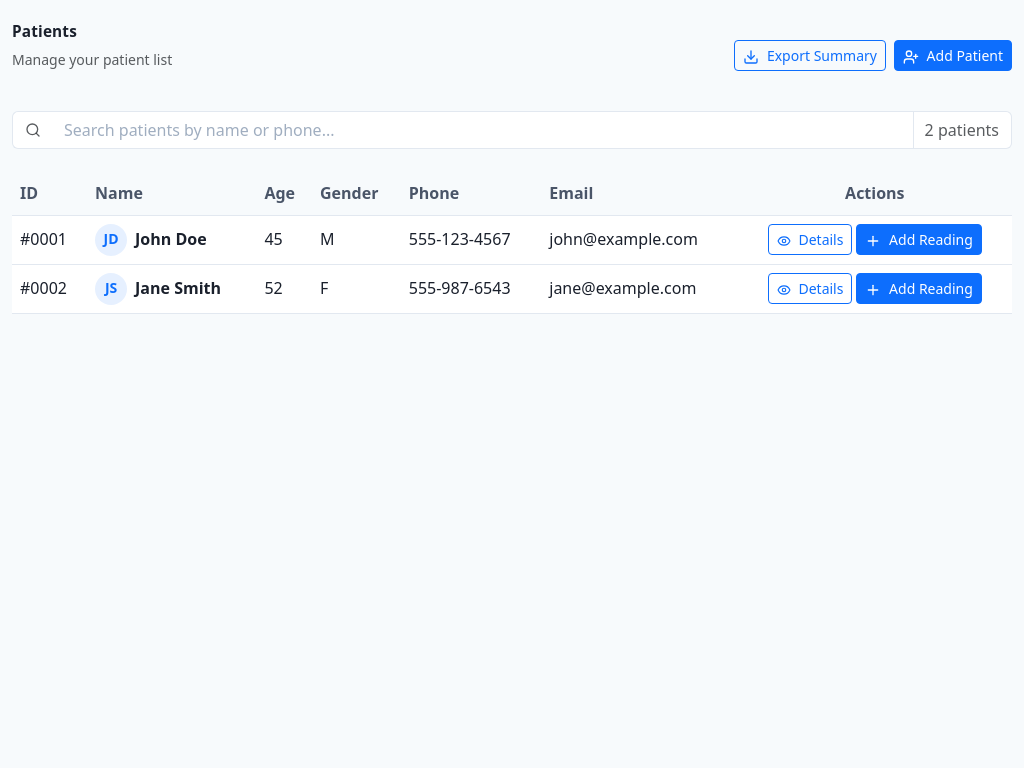
Test case: Patients › opens Add Patient modal when Add button is clicked
This screenshot has width=1024, height=768.
Check: the text "John Doe" is shown, box [135,227,207,252]
Click the button "Add Patient".
click(953, 56)  # box [894,40,1012,71]
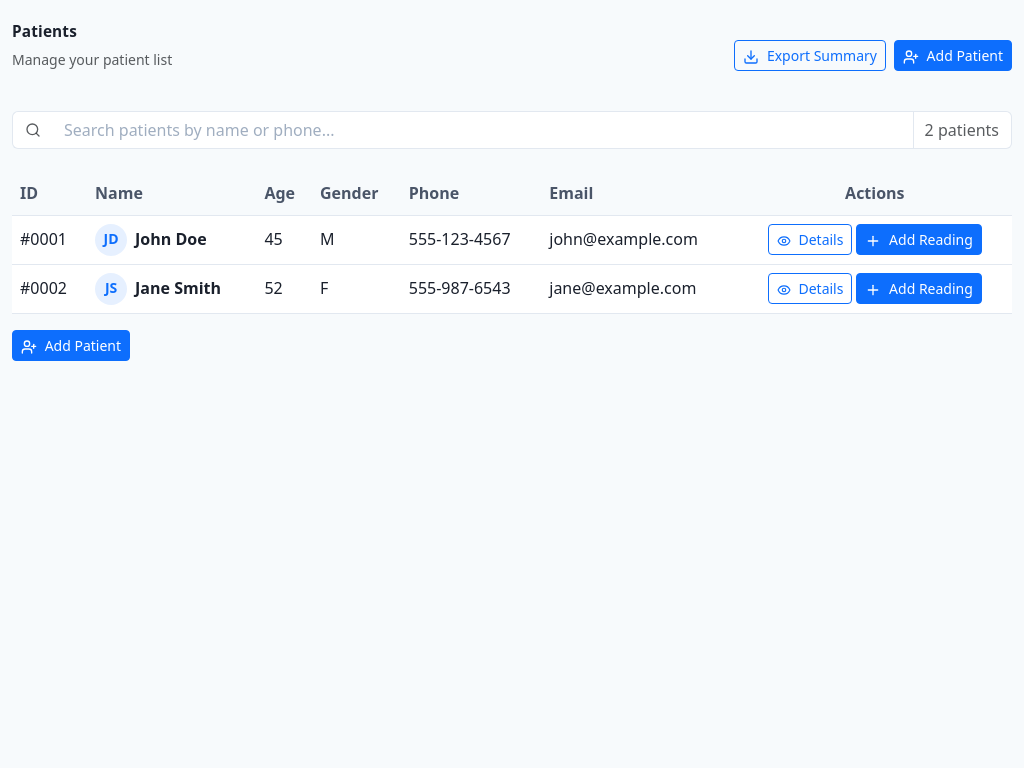
Click the 2nd button "Add Patient".
click(71, 345)  # box [12,330,130,361]
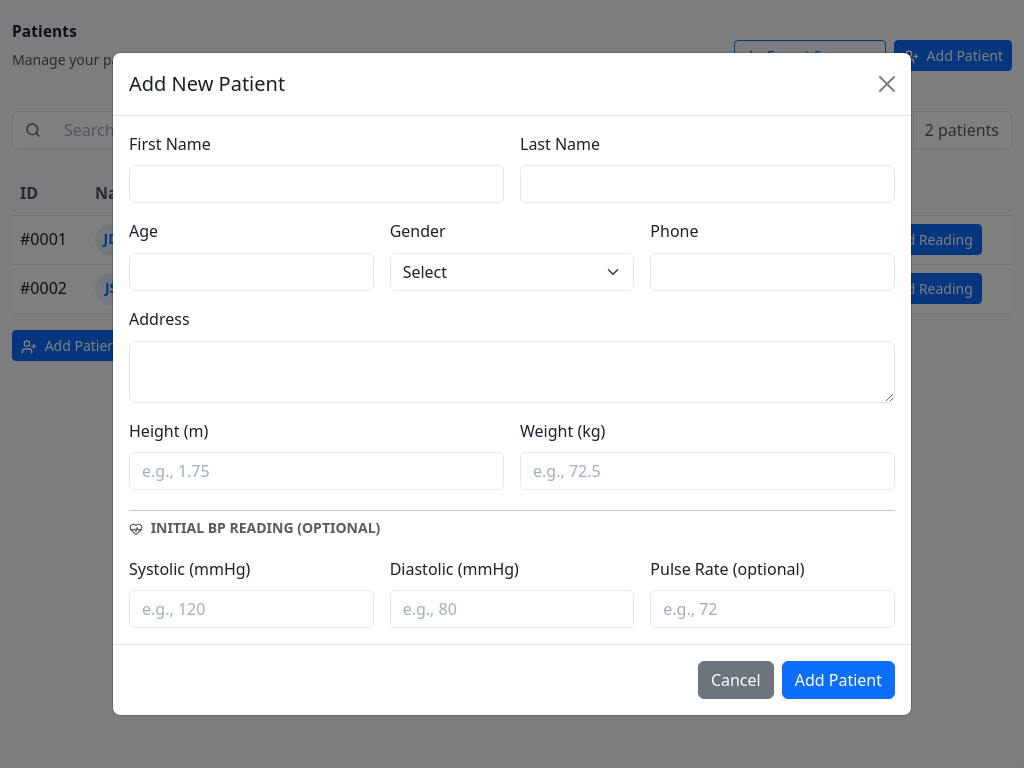
Check: the heading "Add New Patient" is shown, box [129,69,285,99]
